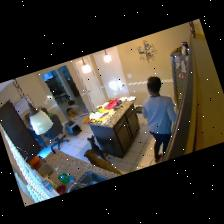person: (143, 77, 177, 162)
